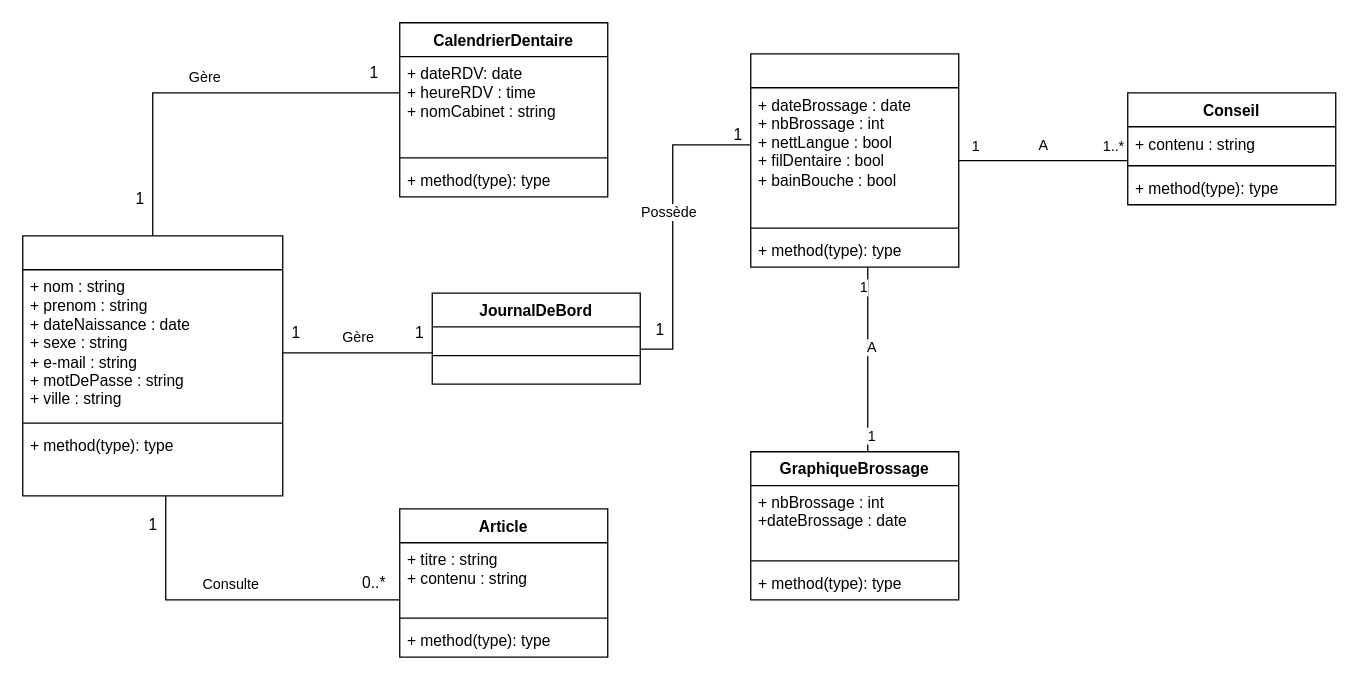
Some shapes in this 1359 by 684 pixel diagram are drawn without their labels. Here are the shapes that lost their labels. From the top down, the box of each, then its label:
(749, 53, 959, 267): HabitudeHygièneDentaire
(21, 235, 283, 496): Utilisateur
